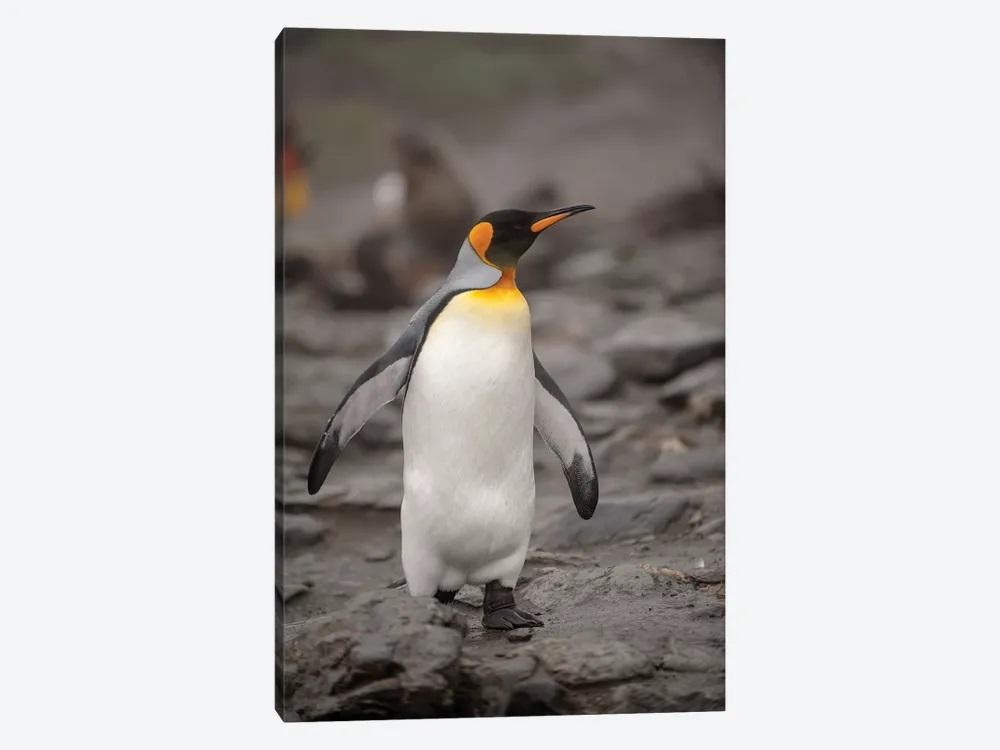king: (331, 173, 638, 646)
